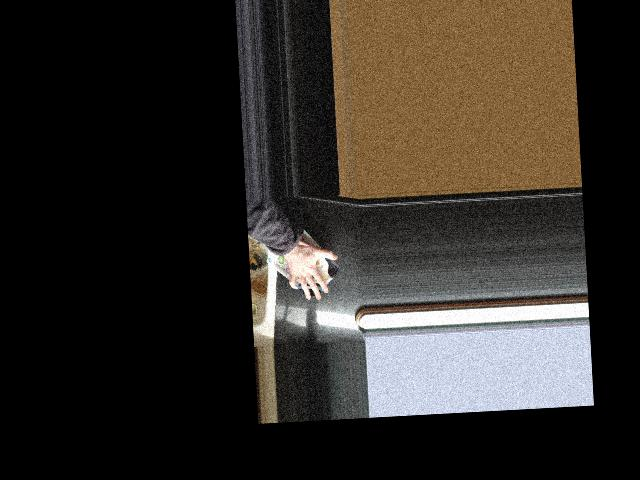cheese: (262, 223, 341, 302)
